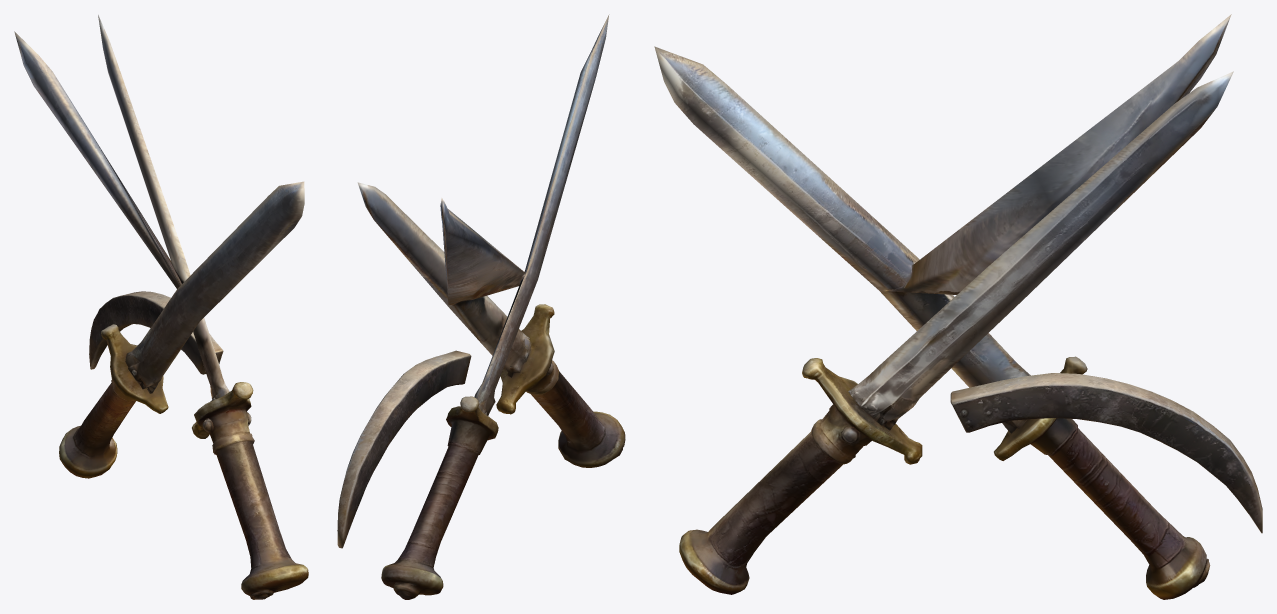
Rendered from tools-fer.glb.
3 views of the same model, side by side, from view 1: azimuth 30°, elevation 25°; view 2: azimuth 150°, elevation 25°; view 3: azimuth 270°, elevation 25° (orthographic). The views are drawn at different scales.
Parts seen in each view (by area): view 1: tripo_node_4e0a0f23-5138-4d4d-abcc-8fda802a9072; view 2: tripo_node_4e0a0f23-5138-4d4d-abcc-8fda802a9072; view 3: tripo_node_4e0a0f23-5138-4d4d-abcc-8fda802a9072.
Part boxes in pixels (box(x1,y1,x2,y2)): tripo_node_4e0a0f23-5138-4d4d-abcc-8fda802a9072: box(14, 15, 308, 599); tripo_node_4e0a0f23-5138-4d4d-abcc-8fda802a9072: box(337, 14, 625, 599); tripo_node_4e0a0f23-5138-4d4d-abcc-8fda802a9072: box(654, 14, 1262, 599).
Size of the model in its own units: 0.2363 by 0.998 by 0.998.
1 material, 1 textured.
